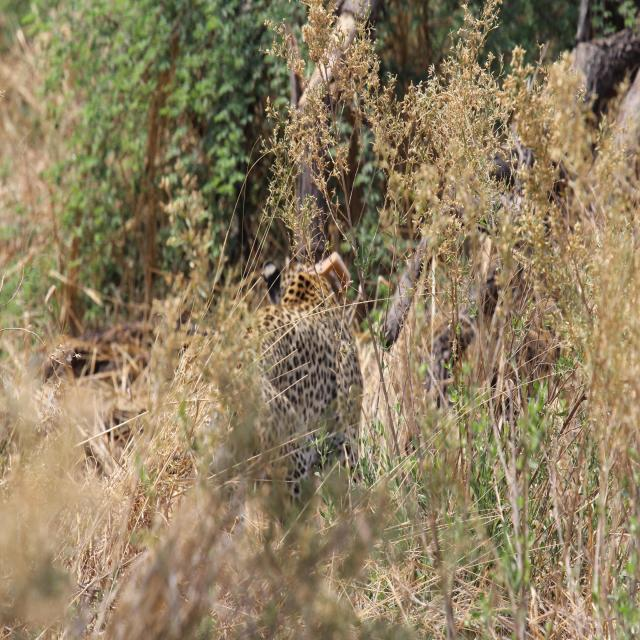Leopard: (238, 244, 360, 542)
